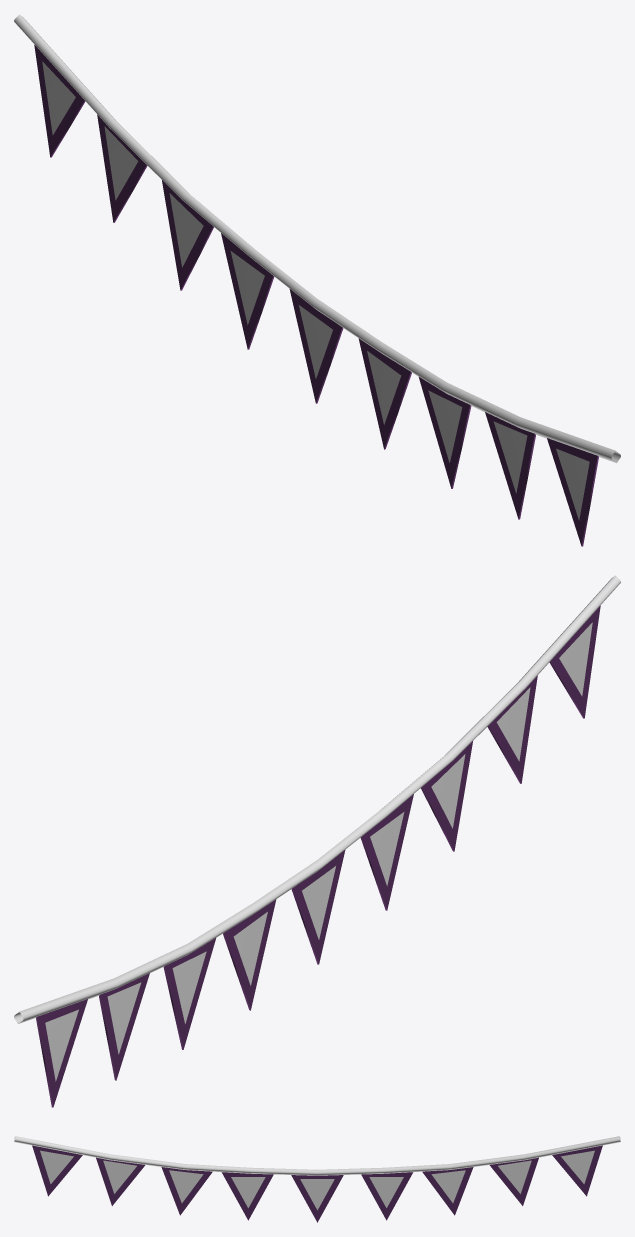
The model's file is SM_donutsDecoration_02.glb.
The picture shows the model from 3 angles, top to bottom: view 1: azimuth 30°, elevation 25°; view 2: azimuth 150°, elevation 25°; view 3: azimuth 270°, elevation 25°; orthographic projection. The views are drawn at different scales.
Parts seen in each view (by area): view 1: SM_donutsDecoration_02; view 2: SM_donutsDecoration_02; view 3: SM_donutsDecoration_02.
Part boxes in pixels (x1=…): SM_donutsDecoration_02: x1=14, y1=14, x2=620, y2=546; SM_donutsDecoration_02: x1=14, y1=575, x2=620, y2=1107; SM_donutsDecoration_02: x1=14, y1=1136, x2=620, y2=1222.
Bounding box in the file's own units: 0.018 × 0.3159 × 2.
1 material, 1 textured.
